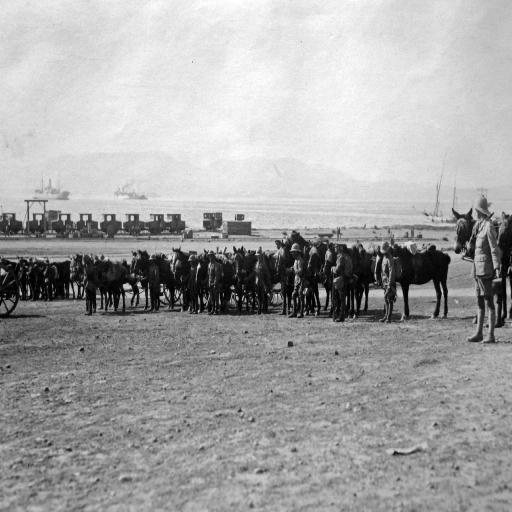horse: (0, 229, 450, 322), (452, 206, 502, 330), (0, 253, 77, 301), (496, 212, 512, 320), (497, 208, 512, 249)
